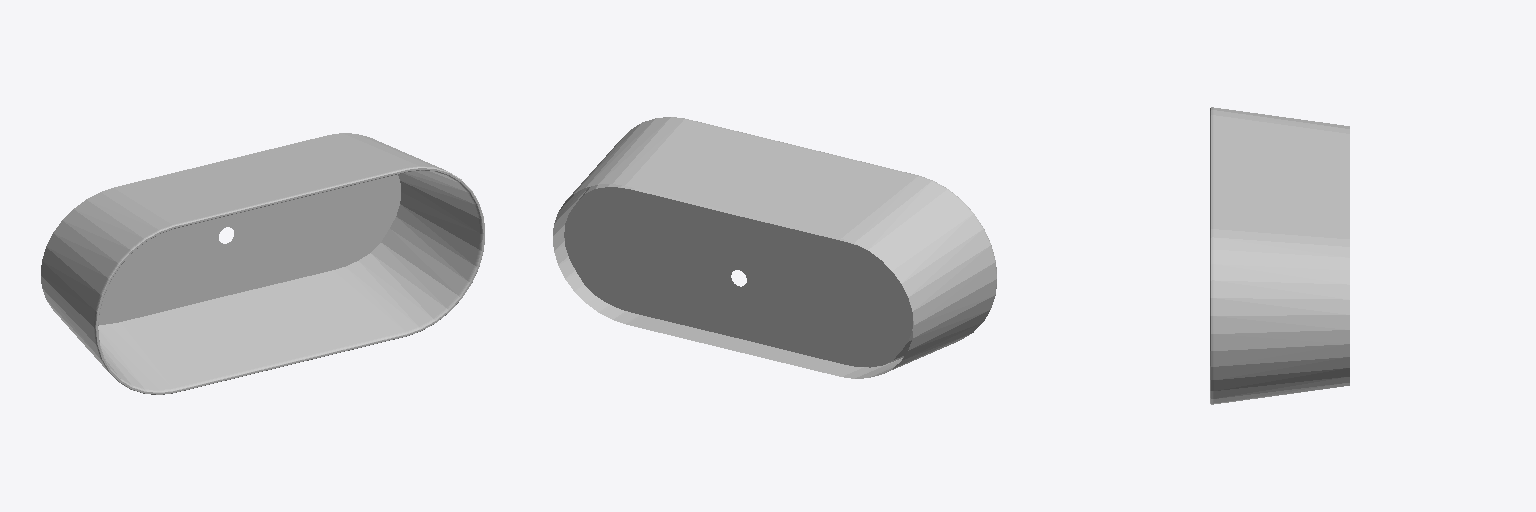
Rendered from tub.obj.
3 views of the same model, side by side, from view 1: azimuth 30°, elevation 25°; view 2: azimuth 150°, elevation 25°; view 3: azimuth 270°, elevation 25° (orthographic).
Parts seen in each view (by area): view 1: Circle; view 2: Circle; view 3: Circle.
Boxes of the visible parts, x1,y1,x2,y2 form: Circle: [41, 133, 484, 394]; Circle: [553, 117, 996, 378]; Circle: [1210, 107, 1349, 404].
Size of the model in its own units: 0.8431 by 0.3463 by 0.26.